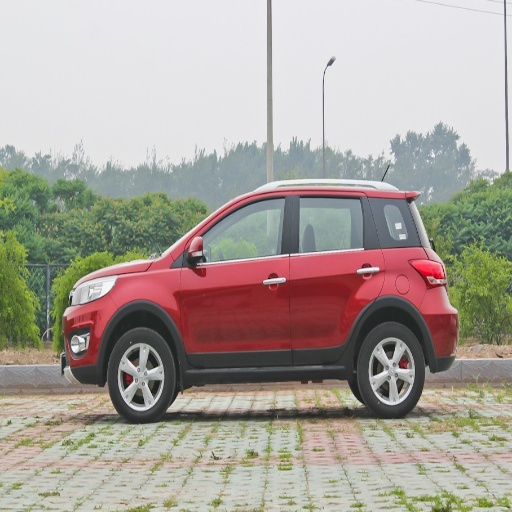back_left_door: (289, 191, 382, 362)
front_left_door: (180, 193, 292, 366)
